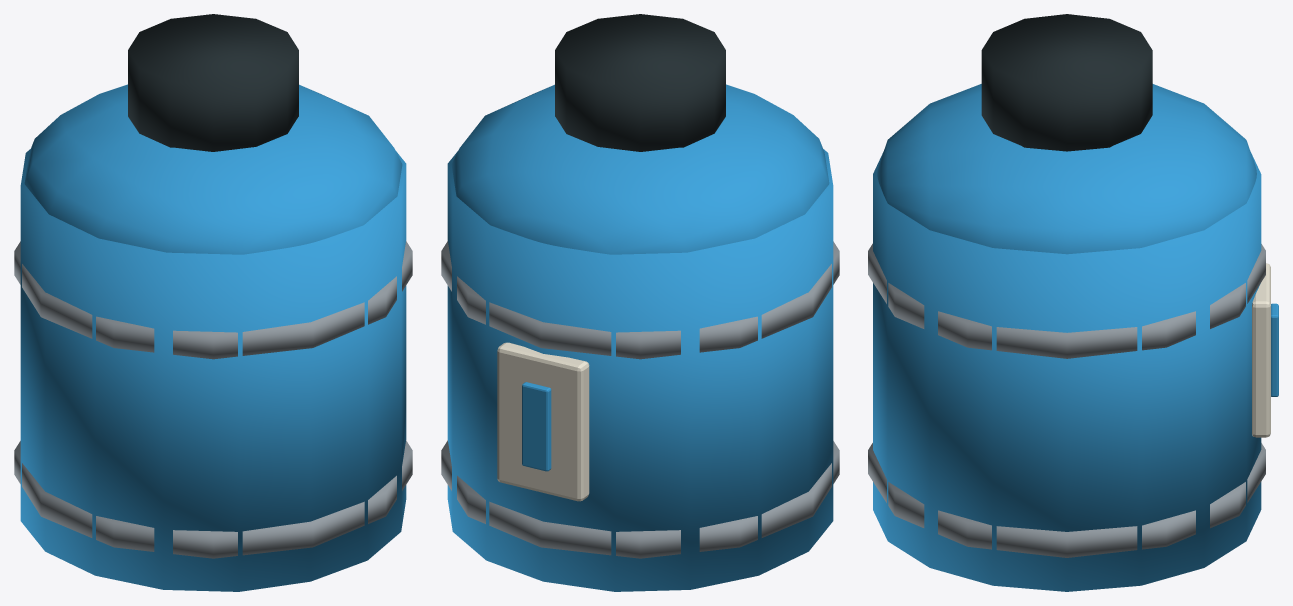
File: ItemShieldBig.glb
The picture shows the model from 3 angles, left to right: view 1: azimuth 30°, elevation 25°; view 2: azimuth 150°, elevation 25°; view 3: azimuth 270°, elevation 25°; orthographic projection.
Visible parts, largest first — view 1: ItemShieldBig; view 2: ItemShieldBig; view 3: ItemShieldBig.
Part boxes in pixels (left/top/right/bottom): ItemShieldBig: left=14, top=14, right=412, bottom=591; ItemShieldBig: left=441, top=14, right=839, bottom=591; ItemShieldBig: left=868, top=14, right=1278, bottom=591.
Bounding box in the file's own units: 0.1804 × 0.23 × 0.1862.
